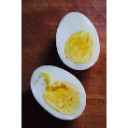begg: (29, 69, 94, 120), (57, 12, 100, 68)
